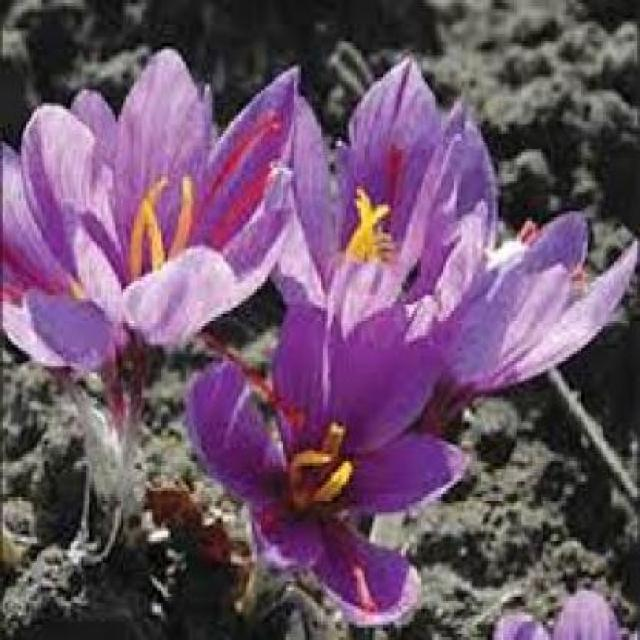saffron open: (186, 307, 464, 624), (21, 50, 298, 342), (435, 212, 638, 409), (436, 208, 638, 394)
